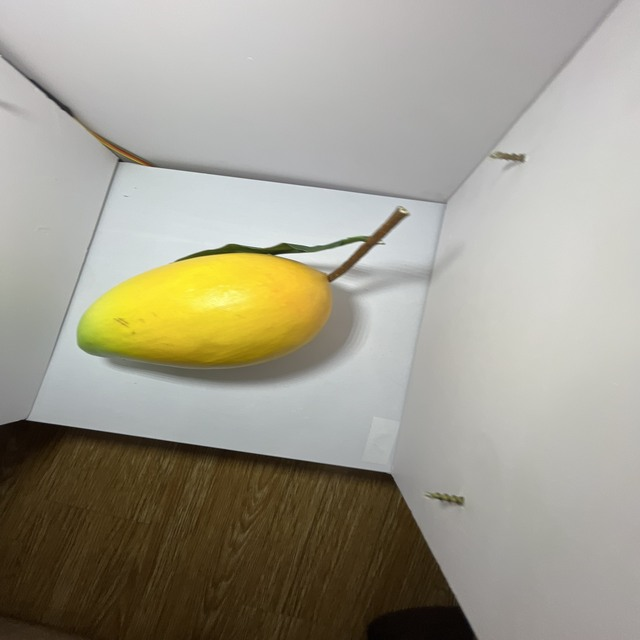Xoai: (71, 250, 339, 378)
